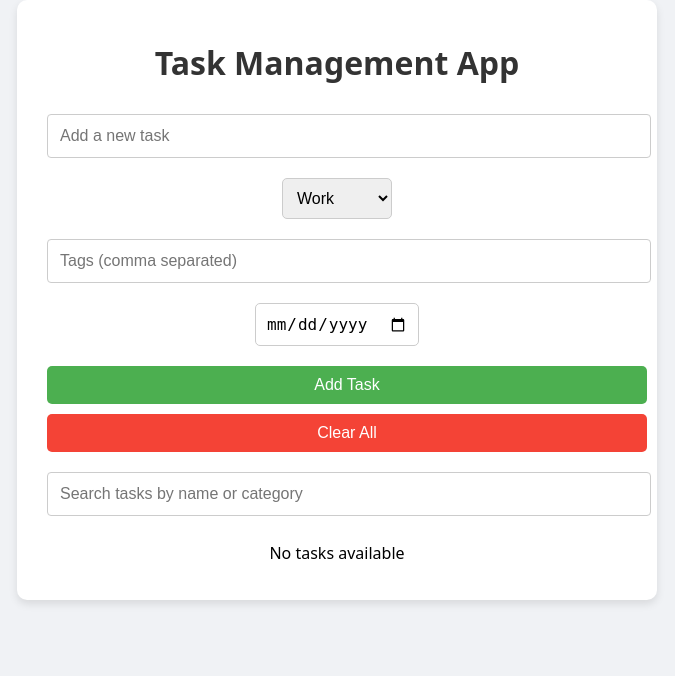
Test case: edits a task
The image size is (675, 676).
Type "Task to be edited" into the field with placeholder "Add a new task". click: (349, 136)
box: [47,114,651,158]
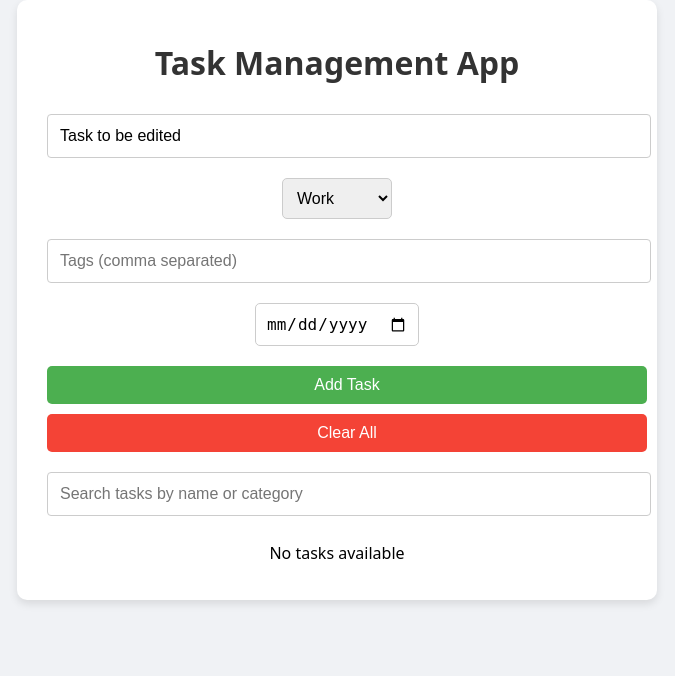
Click the button "Add Task". click: (347, 385)
box: [47,366,647,404]
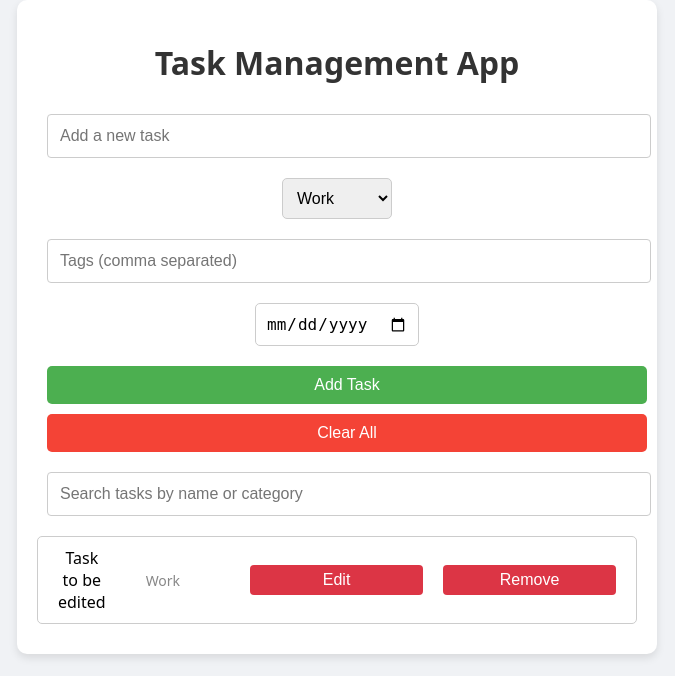
Click the button "Edit". click: (337, 580)
box: [250,565,423,595]
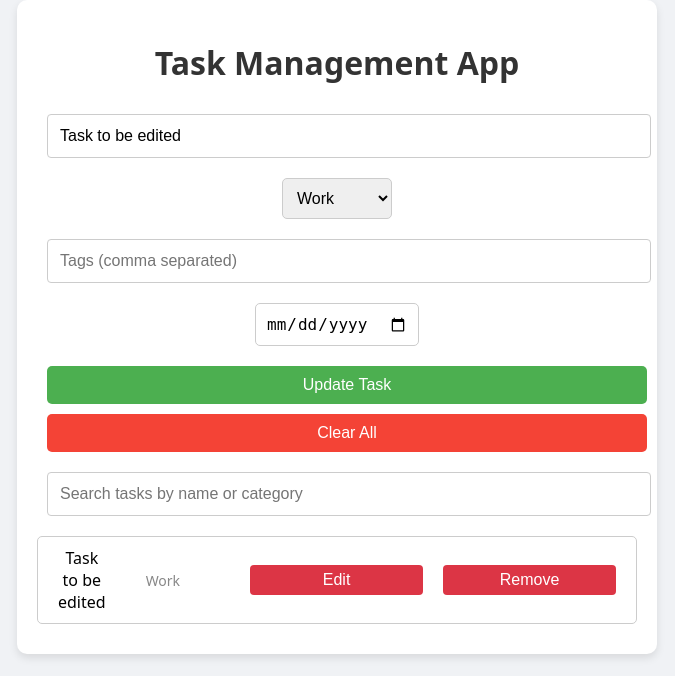
Replace the text in the field showing "Task to be edited" with "Edited Task". click: (349, 136)
box: [47,114,651,158]
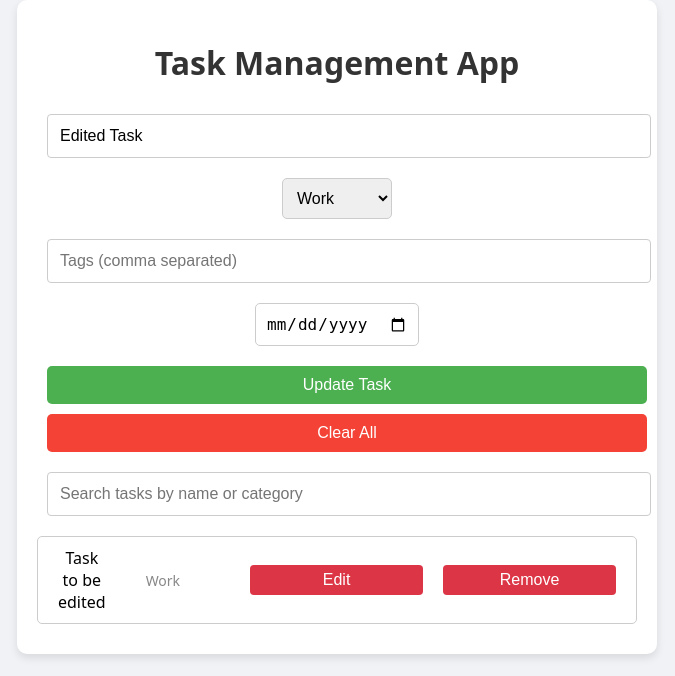
Click the button "Update Task". click: (347, 385)
box: [47,366,647,404]
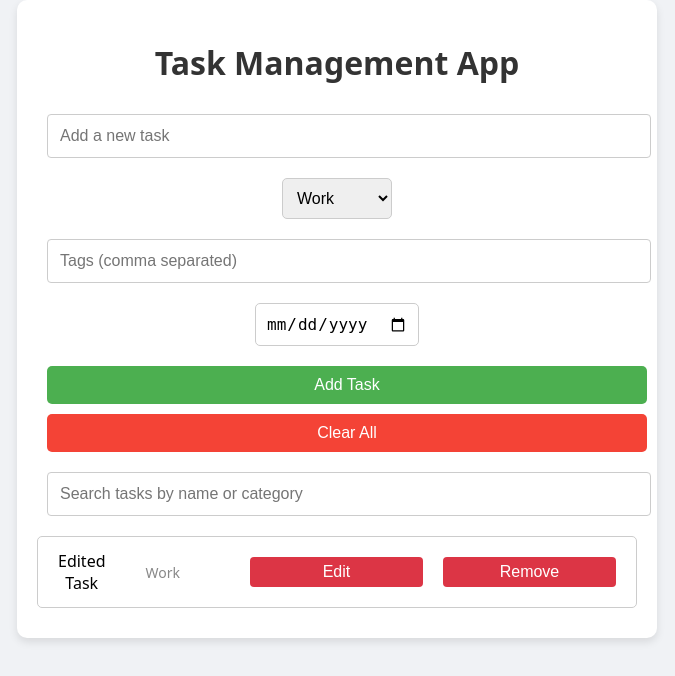
Expected: the text "Edited Task" is shown, [58,550,106,594]
